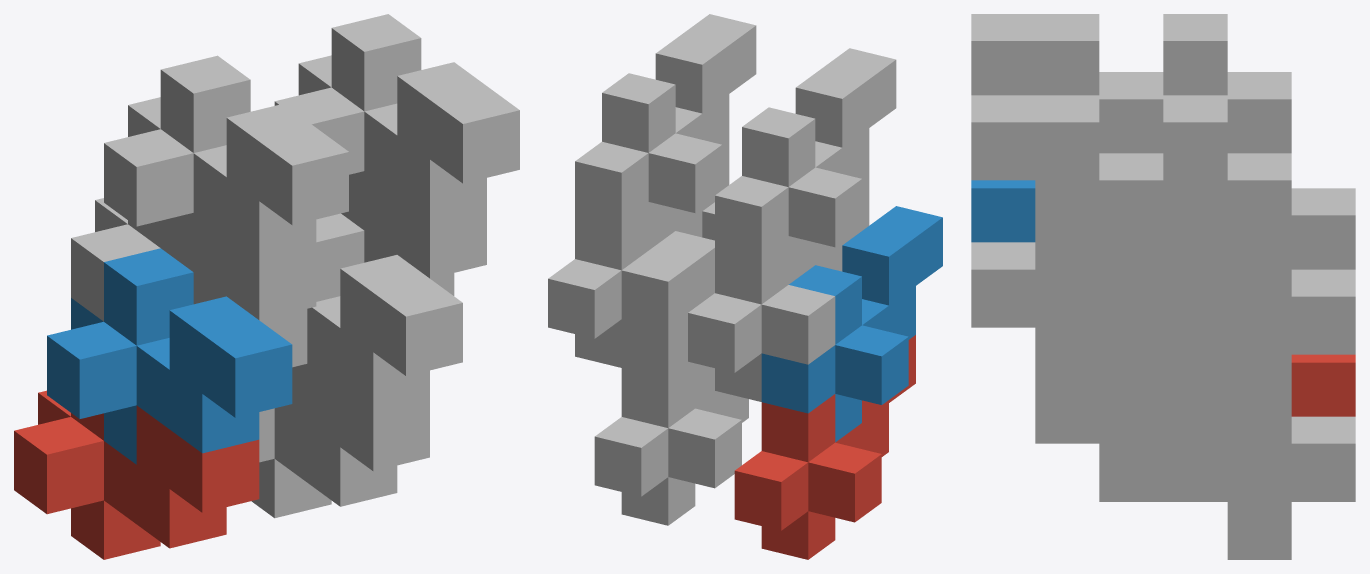
Rendered from tiling.obj.
3 renders of one model, left to right at view 1: azimuth 30°, elevation 25°; view 2: azimuth 150°, elevation 25°; view 3: azimuth 270°, elevation 25°, orthographic. The views are drawn at different scales.
Parts seen in each view (by area): view 1: copy_1_domain_4, copy_1_domain_2, copy_1_domain_8, copy_1_domain_1, copy_1_domain_6, copy_1_domain_5, copy_1_domain_3, copy_1_domain_7; view 2: copy_1_domain_8, copy_1_domain_4, copy_1_domain_2, copy_1_domain_1, copy_1_domain_5, copy_1_domain_3, copy_1_domain_7, copy_1_domain_6; view 3: copy_1_domain_8, copy_1_domain_7, copy_1_domain_5, copy_1_domain_4, copy_1_domain_6, copy_1_domain_3, copy_1_domain_1, copy_1_domain_2.
Part boxes in pixels (x1,y1,x2,y2): copy_1_domain_4: (104, 55, 348, 271); copy_1_domain_2: (47, 248, 292, 464); copy_1_domain_8: (274, 14, 519, 229); copy_1_domain_1: (14, 390, 259, 559); copy_1_domain_6: (283, 213, 462, 422); copy_1_domain_5: (251, 364, 429, 518); copy_1_domain_3: (71, 198, 316, 337); copy_1_domain_7: (364, 171, 486, 295); copy_1_domain_8: (575, 14, 756, 250); copy_1_domain_4: (715, 48, 896, 284); copy_1_domain_2: (761, 206, 942, 442); copy_1_domain_1: (734, 335, 915, 559); copy_1_domain_5: (594, 362, 748, 525); copy_1_domain_3: (688, 177, 869, 401); copy_1_domain_7: (548, 143, 729, 367); copy_1_domain_6: (621, 202, 717, 407); copy_1_domain_8: (971, 95, 1291, 296); copy_1_domain_7: (1035, 238, 1355, 412); copy_1_domain_5: (1035, 385, 1355, 559); copy_1_domain_4: (971, 14, 1291, 153); copy_1_domain_6: (971, 242, 1227, 443); copy_1_domain_3: (1291, 188, 1355, 269); copy_1_domain_1: (1291, 354, 1355, 416); copy_1_domain_2: (971, 180, 1035, 242).
Size of the model in its own units: 6 by 8 by 6.
